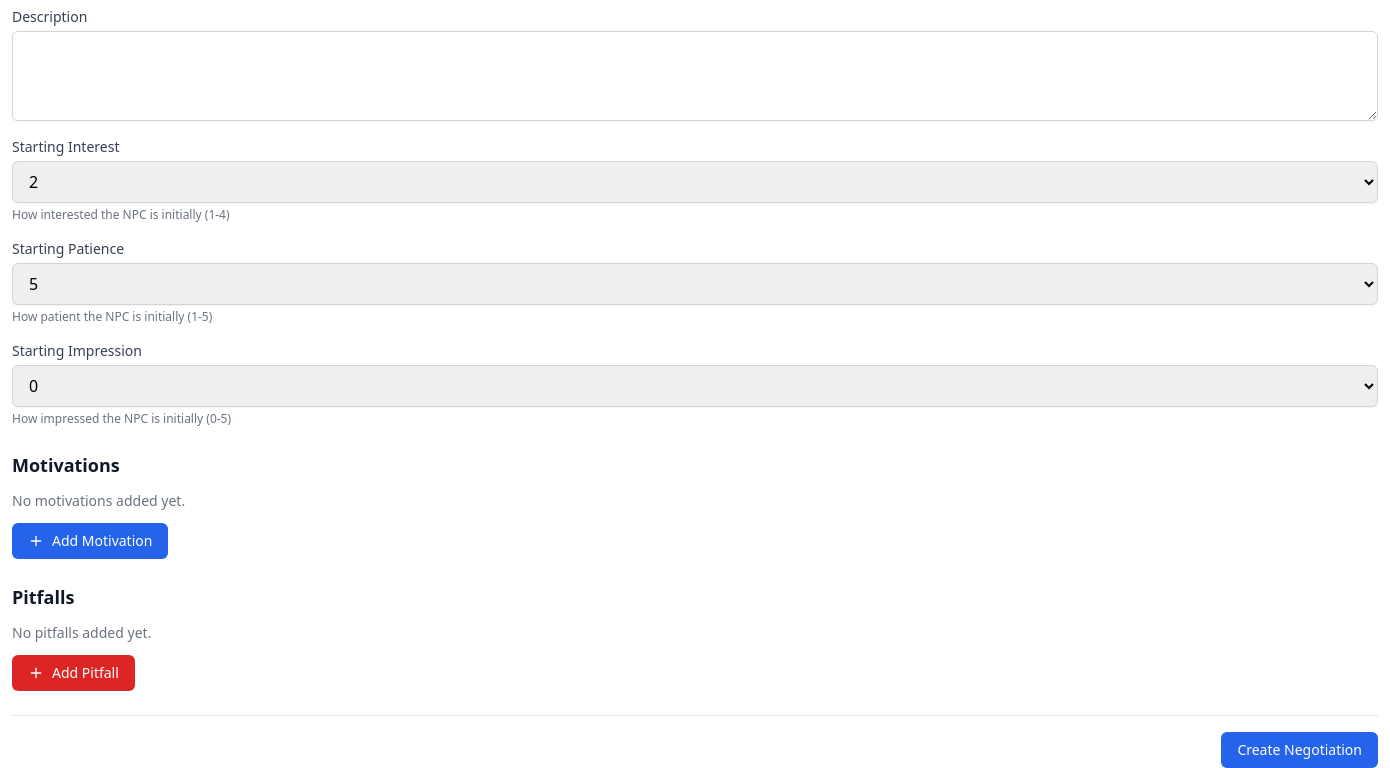
Test: NegotiationSetup Component - Motivation Configuration › should add motivation when button clicked
This screenshot has width=1390, height=768.
(page scrolled)
Click the button "Add Motivation" at (90, 541), box [12,523,168,559]
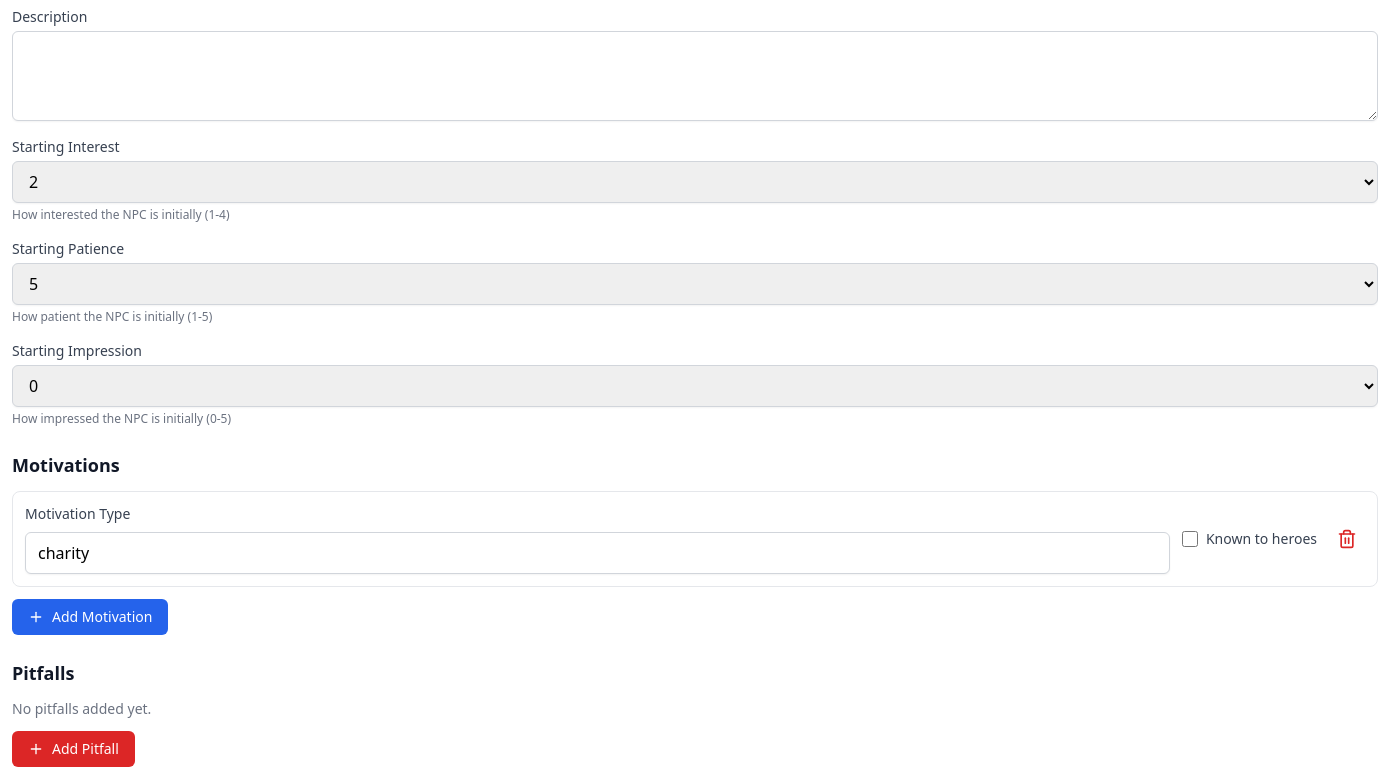
Expected: the field labelled "Motivation Type" is shown, [25,532,1170,574]
